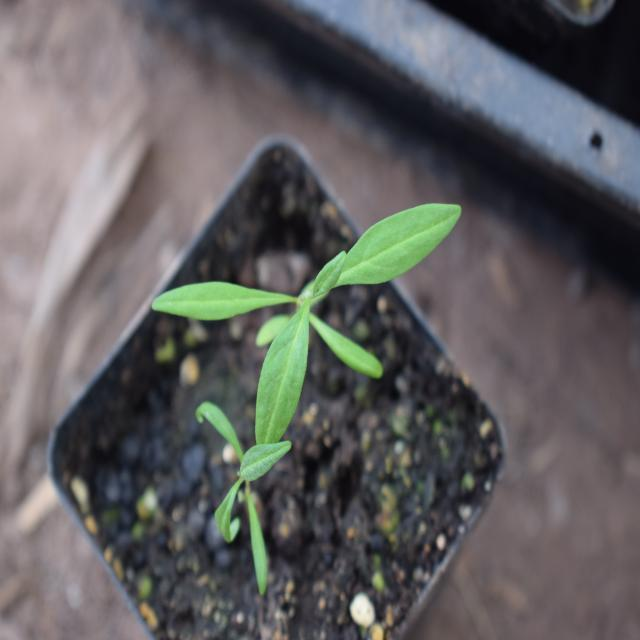white_smart_weed: (177, 160, 486, 461)
